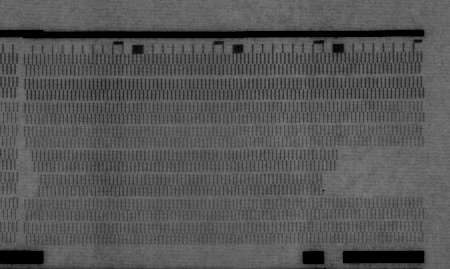Broken hole: (321, 146, 430, 197), (22, 149, 43, 198)
